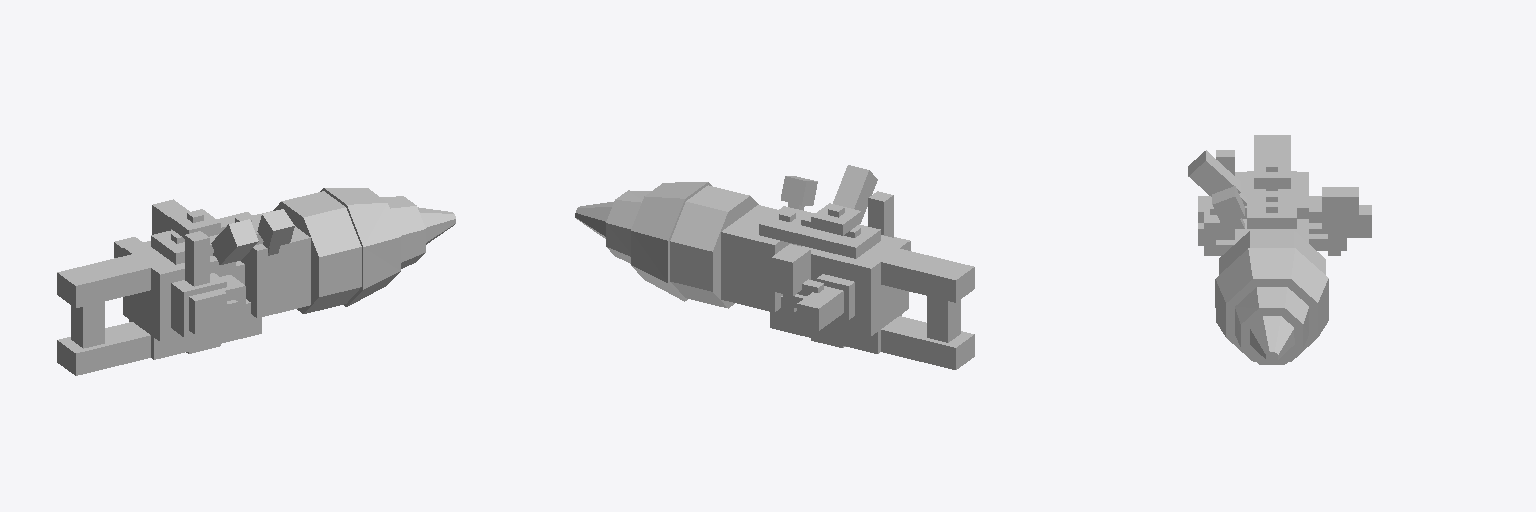
Rendered from drill_diesel.obj.
3 views of the same model, side by side, from view 1: azimuth 30°, elevation 25°; view 2: azimuth 150°, elevation 25°; view 3: azimuth 270°, elevation 25° (orthographic).
Parts seen in each view (by area): view 1: drill_frame, drill_grip, drill_head, upgrade_damage0, upgrade_waterproof, upgrade_speed, upgrade_damage1, upgrade_damage4; view 2: drill_frame, drill_grip, drill_head, upgrade_damage0, upgrade_waterproof, upgrade_damage1, upgrade_speed; view 3: drill_head, drill_frame, upgrade_damage0, upgrade_waterproof, upgrade_speed, upgrade_damage1, drill_grip, upgrade_damage4.
Part boxes in pixels (bbox=[...]): drill_frame: bbox=[71, 199, 310, 348]; drill_grip: bbox=[57, 254, 261, 375]; drill_head: bbox=[236, 188, 455, 306]; upgrade_damage0: bbox=[273, 191, 361, 313]; upgrade_waterproof: bbox=[211, 219, 258, 264]; upgrade_speed: bbox=[257, 209, 294, 255]; upgrade_damage1: bbox=[170, 209, 220, 238]; upgrade_damage4: bbox=[222, 281, 245, 323]; drill_frame: bbox=[721, 191, 960, 342]; drill_grip: bbox=[770, 248, 974, 369]; drill_head: bbox=[575, 182, 711, 301]; upgrade_damage0: bbox=[670, 185, 758, 308]; upgrade_waterproof: bbox=[833, 165, 877, 223]; upgrade_damage1: bbox=[811, 203, 861, 235]; upgrade_speed: bbox=[781, 176, 817, 210]; drill_head: bbox=[1215, 248, 1328, 364]; drill_frame: bbox=[1198, 150, 1371, 255]; upgrade_damage0: bbox=[1219, 230, 1325, 274]; upgrade_waterproof: bbox=[1188, 150, 1246, 205]; upgrade_speed: bbox=[1212, 186, 1244, 235]; upgrade_damage1: bbox=[1254, 161, 1290, 188]; drill_grip: bbox=[1254, 135, 1290, 161]; upgrade_damage4: bbox=[1198, 212, 1234, 255].
Size of the model in its own units: 2.25 by 0.8277 by 0.9214.